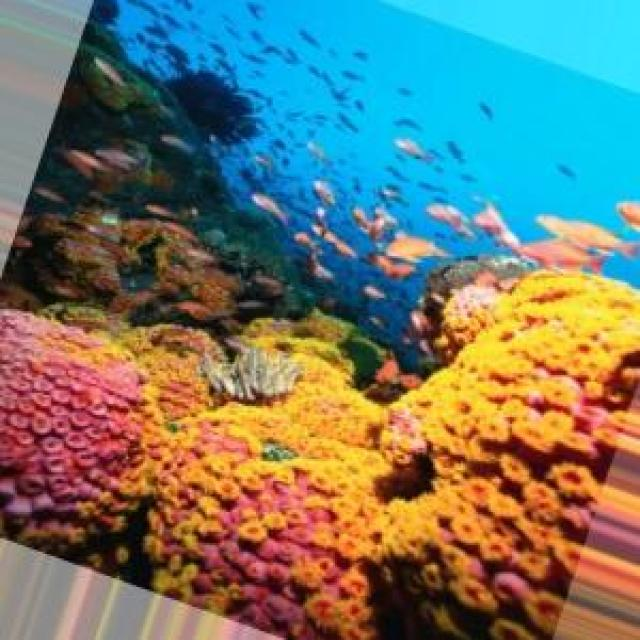healthy coral: (0, 311, 379, 638), (374, 270, 640, 638), (251, 323, 391, 493)
